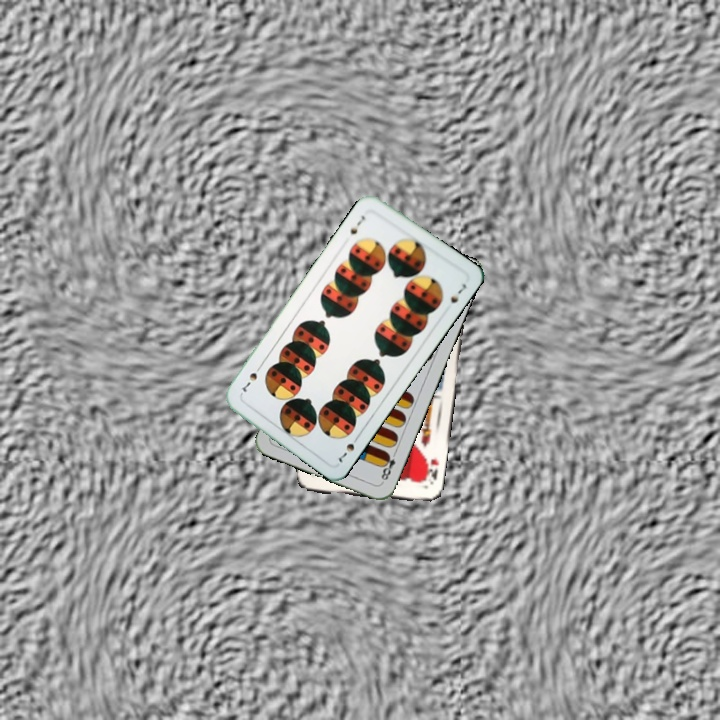E8: (377, 447, 399, 485)
HK: (420, 454, 441, 487)
S7: (334, 431, 362, 466), (346, 211, 368, 237)
